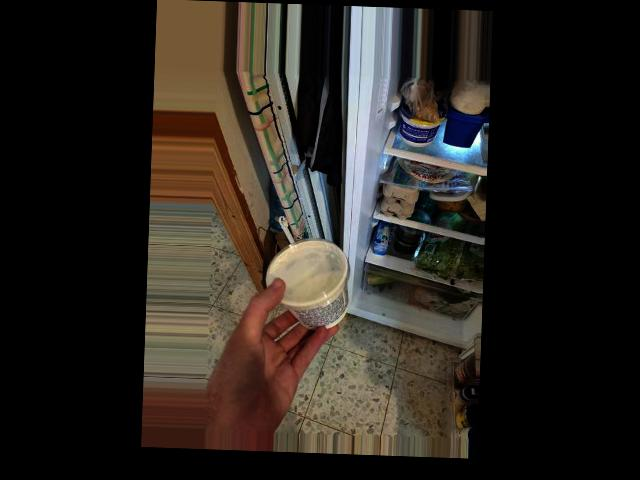cotage: (272, 238, 346, 324)
